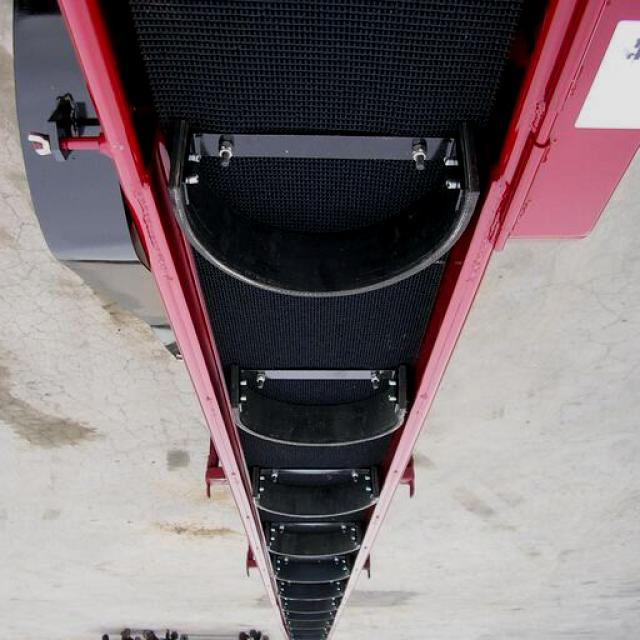conveyor: (73, 2, 567, 640)
